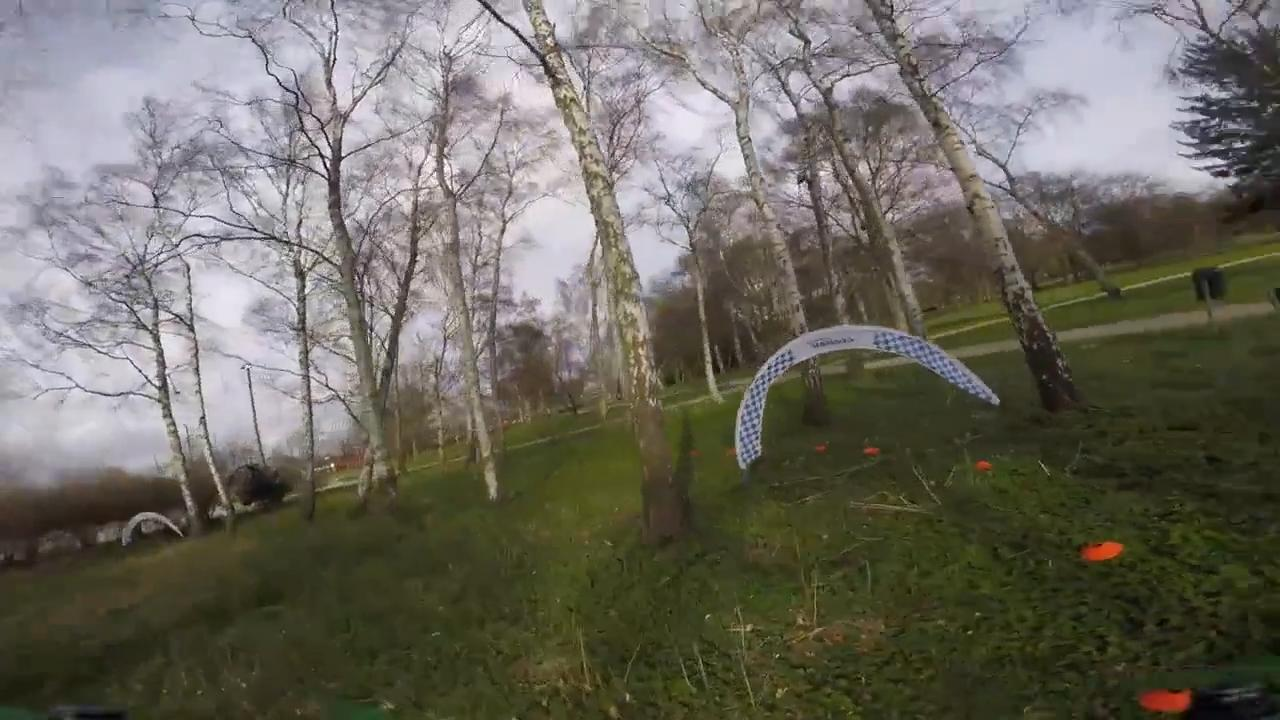gate: (735, 325, 1001, 474)
